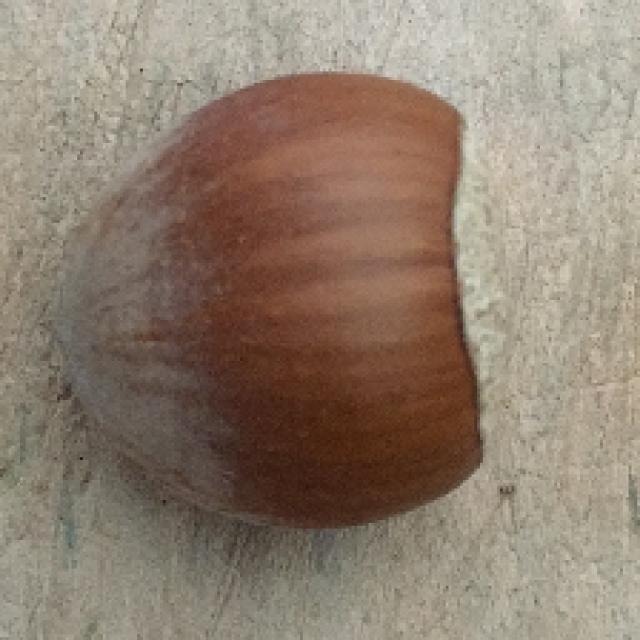qualityHazelnut: (51, 71, 505, 531)
